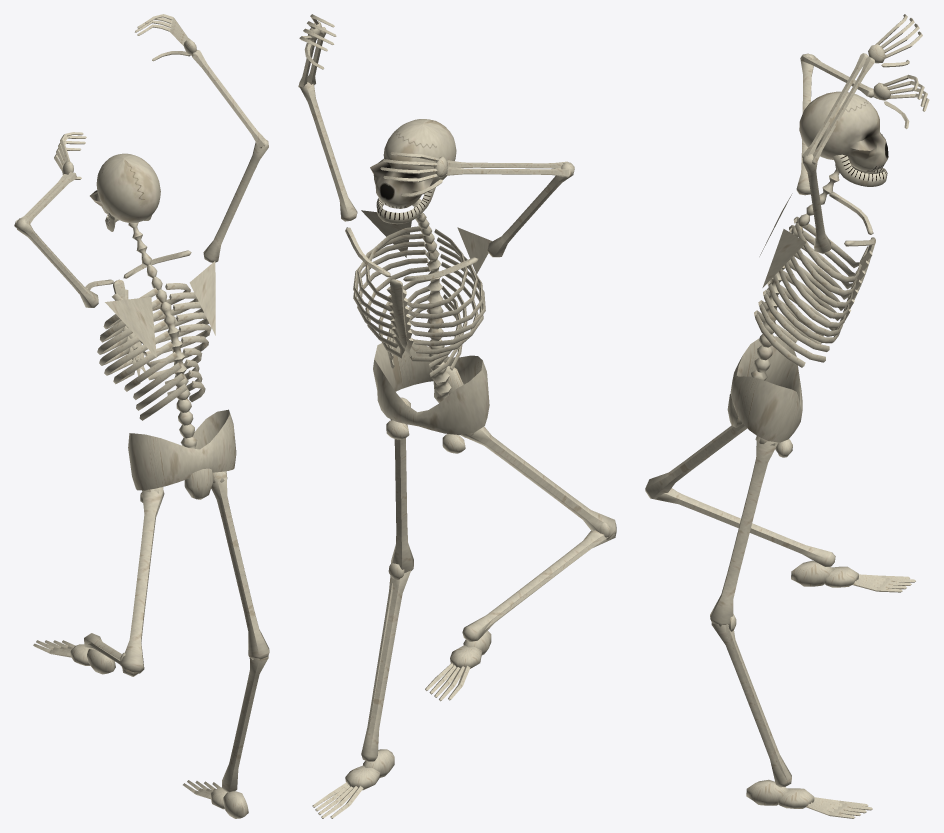
The model's file is skeleton-climb.glb.
The picture shows the model from 3 angles, left to right: view 1: azimuth 30°, elevation 25°; view 2: azimuth 150°, elevation 25°; view 3: azimuth 270°, elevation 25°; orthographic projection. The views are drawn at different scales.
Parts seen in each view (by area): view 1: skeleton, head; view 2: skeleton, head; view 3: skeleton, head.
Boxes of the visible parts, x1,y1,x2,y2 form: skeleton: (14, 14, 269, 818); head: (90, 153, 160, 231); skeleton: (298, 14, 616, 818); head: (370, 119, 456, 224); skeleton: (645, 14, 929, 818); head: (799, 91, 888, 186).
Bounding box in the file's own units: 0.6782 × 1.94 × 0.6365.
Materials: 1 (1 with a texture image).
